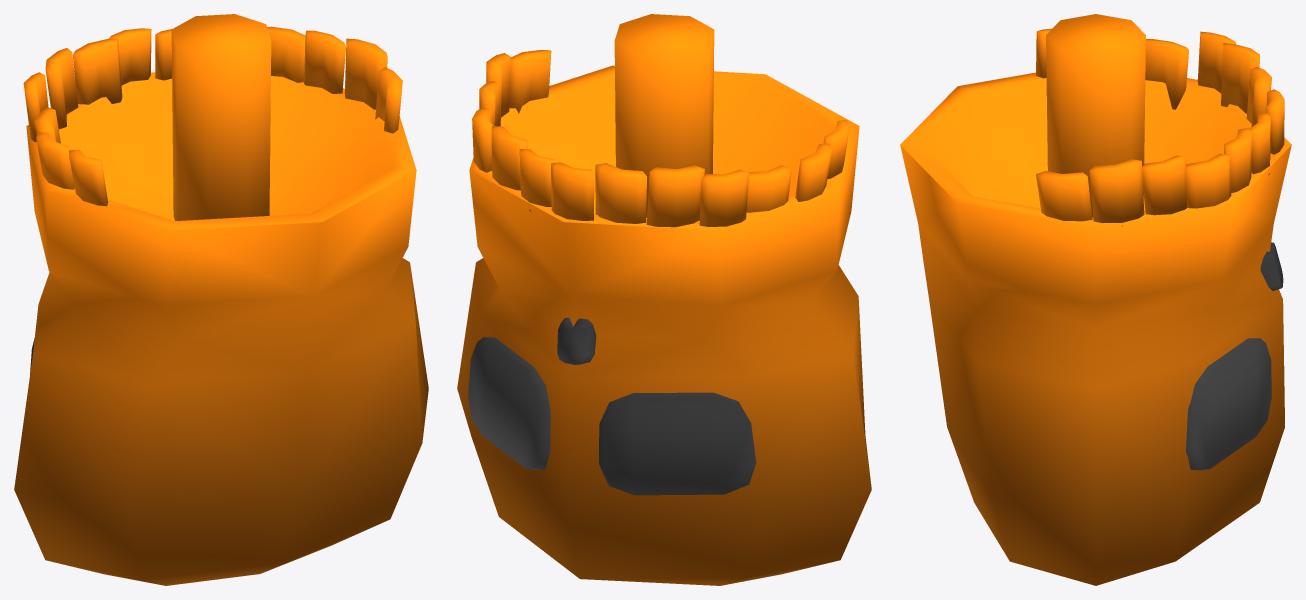
Rendered from bronze_pommel_172.glb.
3 renders of one model, left to right at view 1: azimuth 30°, elevation 25°; view 2: azimuth 150°, elevation 25°; view 3: azimuth 270°, elevation 25°, orthographic. The views are drawn at different scales.
Parts seen in each view (by area): view 1: bronze_pommel_172; view 2: bronze_pommel_172; view 3: bronze_pommel_172.
Part boxes in pixels (bbox=[...]): bronze_pommel_172: bbox=[14, 14, 428, 585]; bronze_pommel_172: bbox=[457, 14, 871, 585]; bronze_pommel_172: bbox=[900, 14, 1291, 585].
Size of the model in its own units: 2.17 by 2.55 by 1.83.
1 material, 1 textured.
